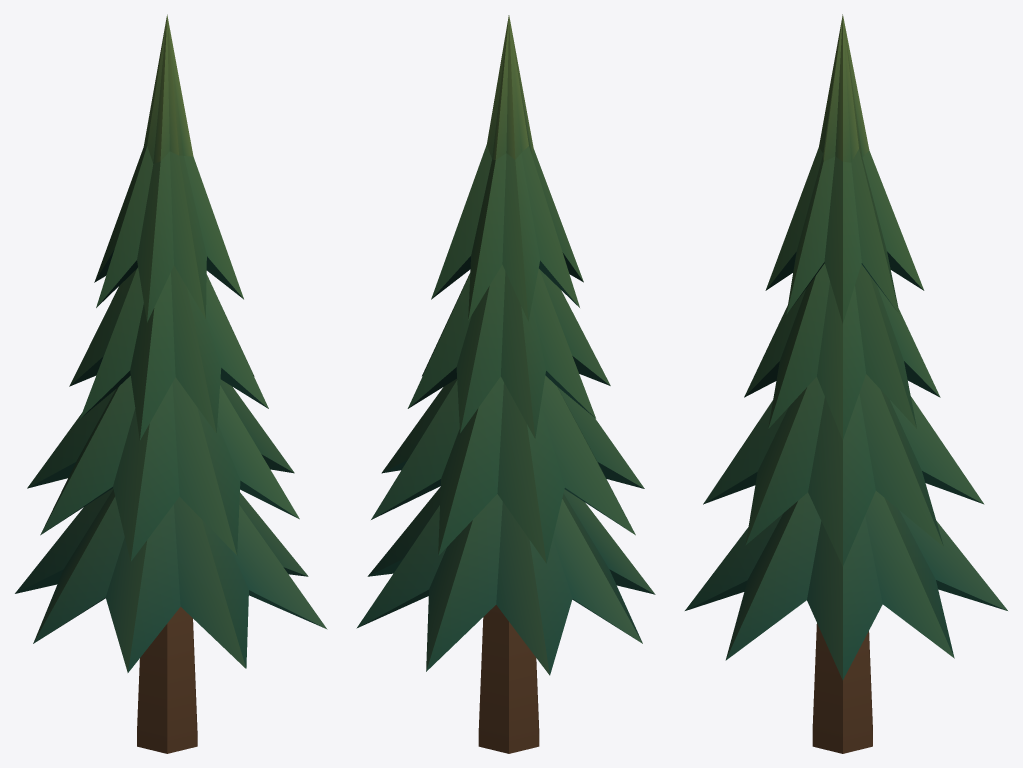
3 views of the same model, side by side, from view 1: azimuth 30°, elevation 25°; view 2: azimuth 150°, elevation 25°; view 3: azimuth 270°, elevation 25° (orthographic).
Parts seen in each view (by area): view 1: prop_pine_tall; view 2: prop_pine_tall; view 3: prop_pine_tall.
Boxes of the visible parts, bbox=[...] form: prop_pine_tall: bbox=[15, 14, 327, 753]; prop_pine_tall: bbox=[356, 15, 655, 753]; prop_pine_tall: bbox=[685, 14, 1007, 753].
Bounding box in the file's own units: 2.79 × 7 × 2.84.
